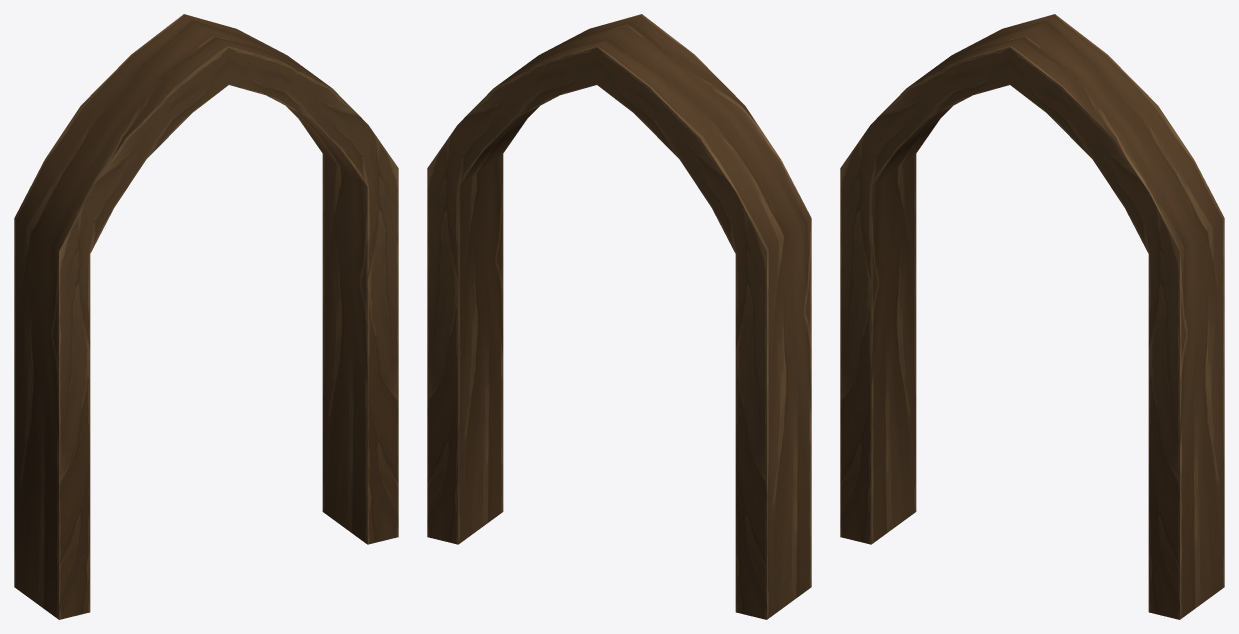
The model's file is Door_aperture_1.FBX.
3 views of the same model, side by side, from view 1: azimuth 30°, elevation 25°; view 2: azimuth 150°, elevation 25°; view 3: azimuth 330°, elevation 25° (orthographic).
Parts seen in each view (by area): view 1: Door_aperture_1; view 2: Door_aperture_1; view 3: Door_aperture_1.
Boxes of the visible parts, left/top/right/bottom form: Door_aperture_1: left=14, top=14, right=398, bottom=619; Door_aperture_1: left=427, top=14, right=811, bottom=619; Door_aperture_1: left=840, top=14, right=1224, bottom=619.
Size of the model in its own units: 1709 by 2556 by 392.
